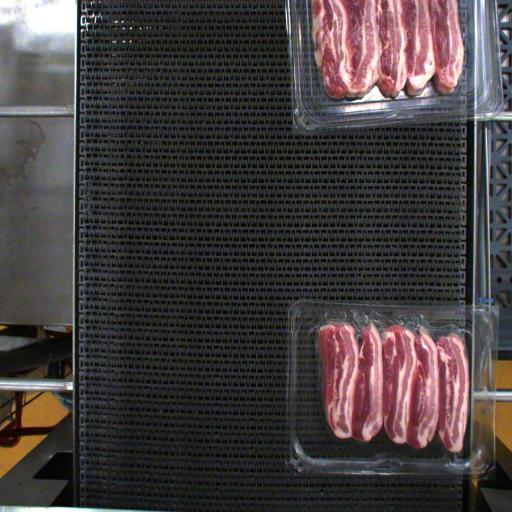unsealed: (313, 304, 465, 366)
